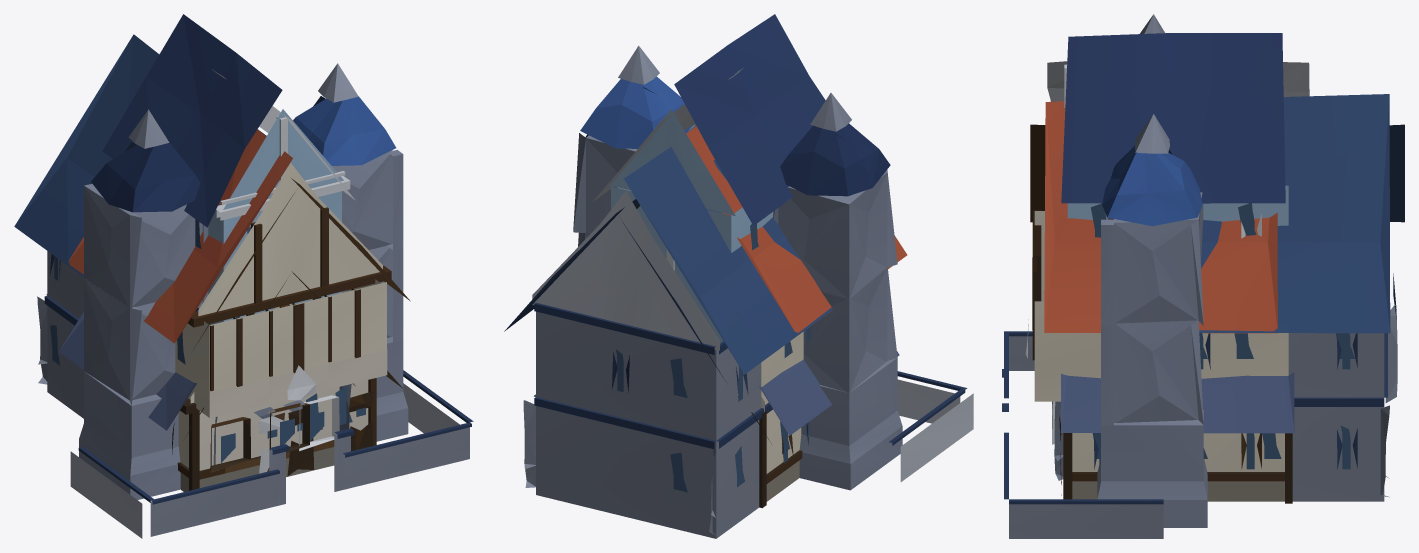
Rendered from kit_homes.glb.
3 views of the same model, side by side, from view 1: azimuth 30°, elevation 25°; view 2: azimuth 150°, elevation 25°; view 3: azimuth 270°, elevation 25° (orthographic). The views are drawn at different scales.
Parts seen in each view (by area): view 1: Wall_UnevenBrick_Straight (×5), Roof_RoundTiles_6x6 (×3), Wall_Plaster_Straight_Base (×2), Roof_RoundTiles_4x6; view 2: Wall_UnevenBrick_Straight (×4), Roof_RoundTiles_6x6 (×3), Roof_RoundTiles_4x6, Wall_Plaster_Straight_Base (×2); view 3: Wall_UnevenBrick_Straight (×4), Roof_RoundTiles_6x6 (×3), Roof_RoundTiles_4x6, Wall_Plaster_Straight_Base (×2).
Part boxes in pixels (left/top/right/bottom): Wall_UnevenBrick_Straight (×5): left=37, top=63, right=473, bottom=538; Roof_RoundTiles_6x6 (×3): left=14, top=34, right=410, bottom=437; Wall_Plaster_Straight_Base (×2): left=172, top=279, right=387, bottom=491; Roof_RoundTiles_4x6: left=102, top=14, right=355, bottom=227; Wall_UnevenBrick_Straight (×4): left=523, top=45, right=973, bottom=538; Roof_RoundTiles_6x6 (×3): left=504, top=126, right=907, bottom=443; Roof_RoundTiles_4x6: left=592, top=14, right=825, bottom=225; Wall_Plaster_Straight_Base (×2): left=759, top=331, right=803, bottom=508; Wall_UnevenBrick_Straight (×4): left=1002, top=14, right=1397, bottom=538; Roof_RoundTiles_6x6 (×3): left=1030, top=94, right=1404, bottom=433; Roof_RoundTiles_4x6: left=1047, top=33, right=1309, bottom=203; Wall_Plaster_Straight_Base (×2): left=1032, top=210, right=1292, bottom=503.
Bounding box in the file's own units: 11.21 × 12.64 × 10.94.
